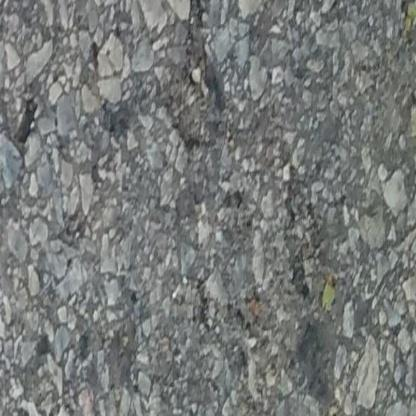Cracks: (165, 0, 220, 146)
